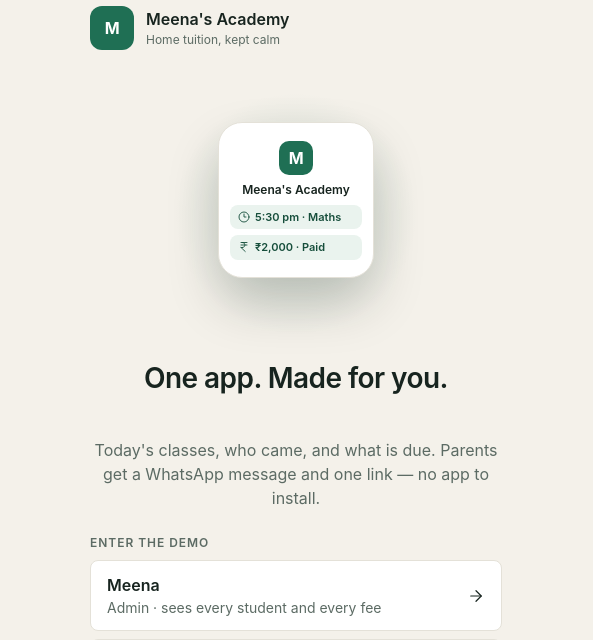
Test: tutors › adds a monthly review from the tutor profile
The image size is (593, 640).
Click the button "Meena Admin · sees every student and every fee" at (133, 585), box [90,560,502,631]
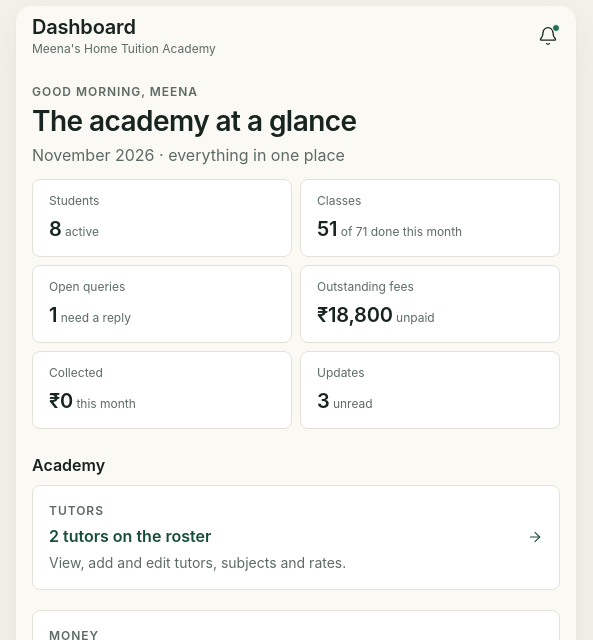
Click the link "Tutors" at (76, 510), box [32,485,560,590]
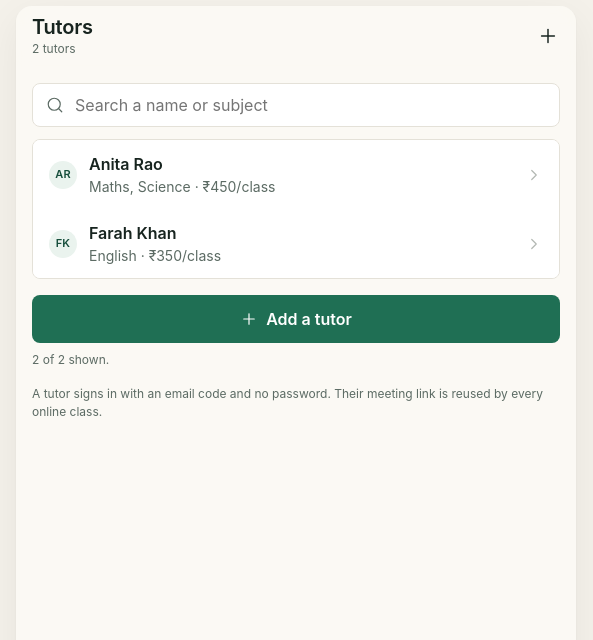
Click the link with aria-label "Open Anita Rao's profile" at (126, 164), box [49,152,543,197]
(page scrolled)
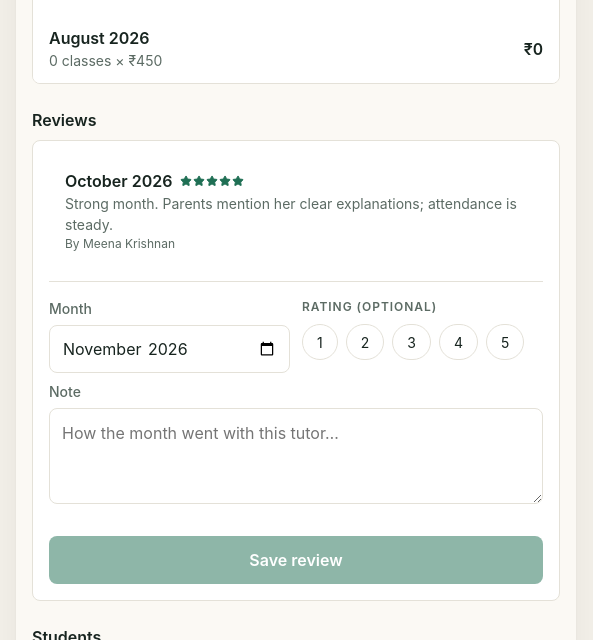
Now the heading "Reviews" is shown, box [32,110,96,130]
Now the text "Strong month" is shown, box [65,195,517,233]
Click the button "5" at (505, 342), box [486,324,524,360]
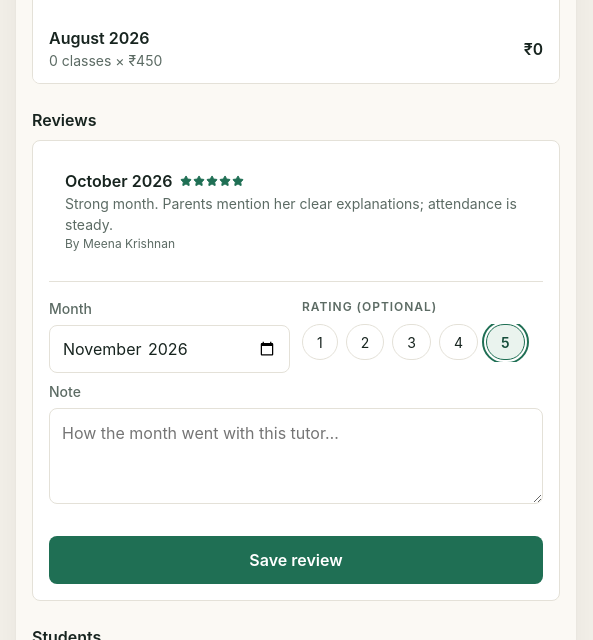
Type "Extra classes helped before the unit test." into the text box labelled "Note" at (296, 456), box [49,408,543,504]
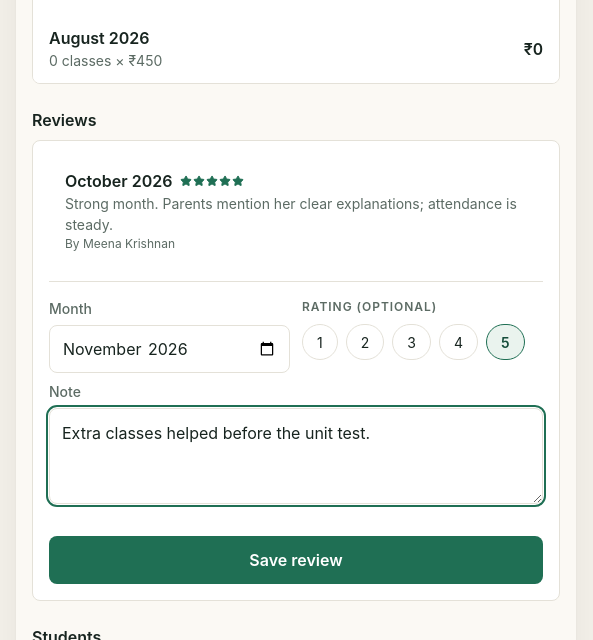
Click the button "Save review" at (296, 560), box [49,536,543,584]
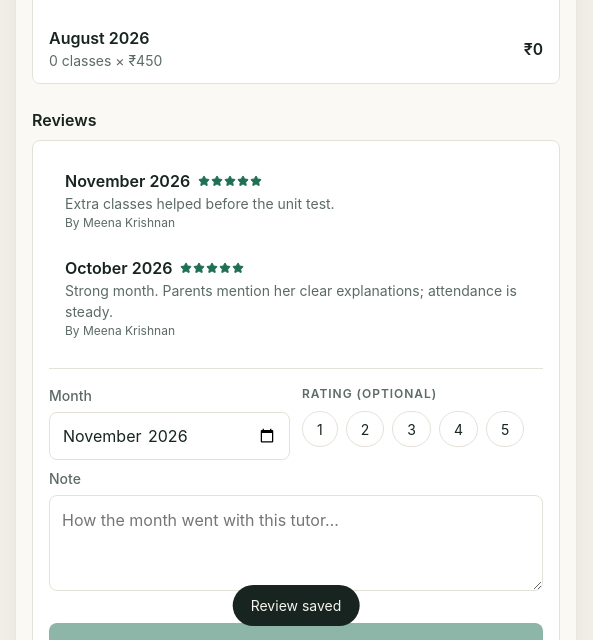
Now the text "Extra classes helped before the unit test." is shown, box [65,195,335,212]
